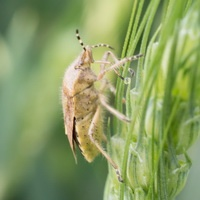insect: (62, 29, 142, 182)
